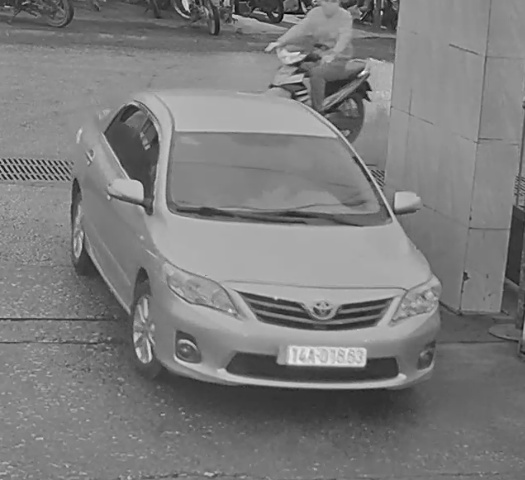vehicle plate: (271, 339, 374, 372)
